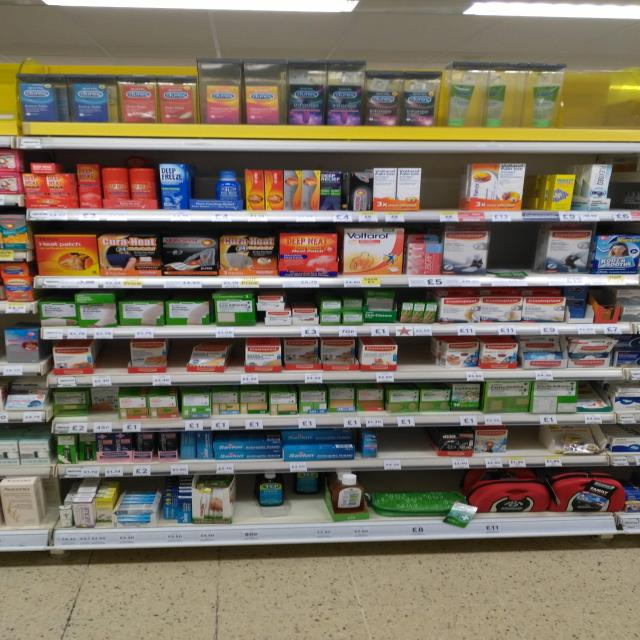empty: (568, 64, 637, 127), (494, 228, 536, 273), (424, 165, 459, 208), (385, 428, 436, 454), (614, 164, 637, 211), (400, 340, 431, 370), (235, 475, 256, 518), (98, 341, 127, 372), (193, 166, 216, 203), (511, 426, 541, 453), (170, 341, 189, 373)
